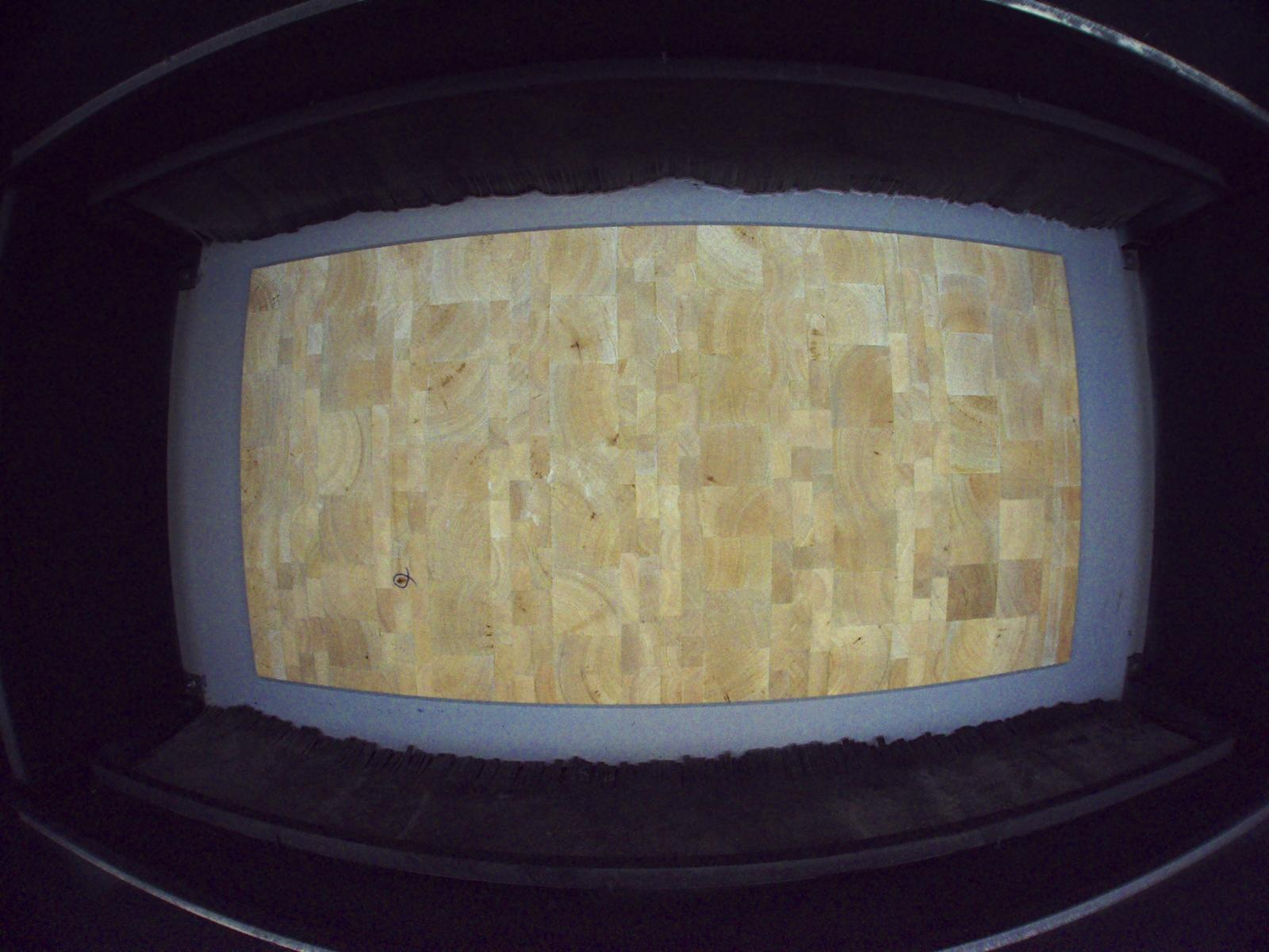nudillo: (395, 575, 407, 586)
